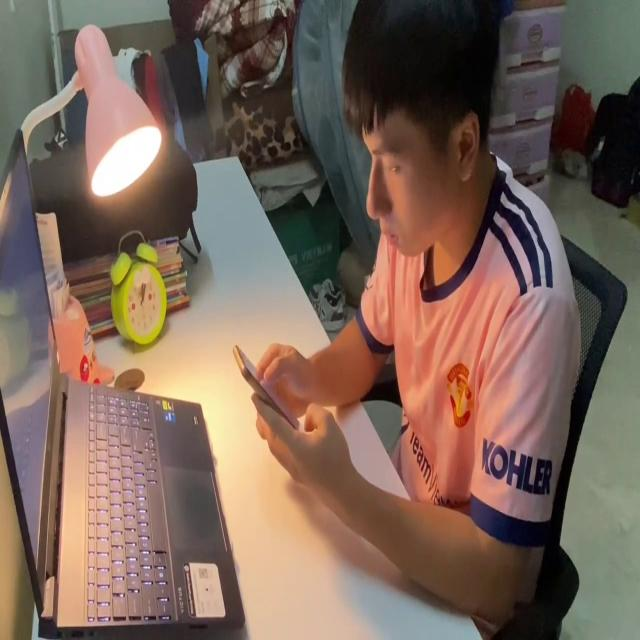laptop: (0, 124, 246, 640)
phone: (230, 332, 302, 433)
student: (254, 3, 582, 625)
